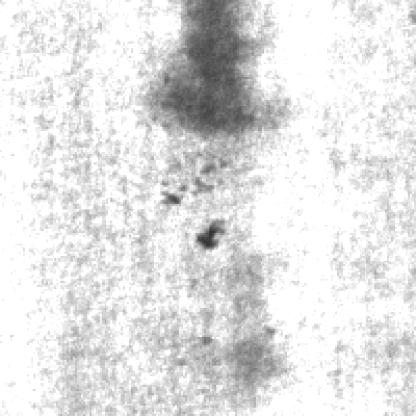patches: (156, 0, 256, 129)
